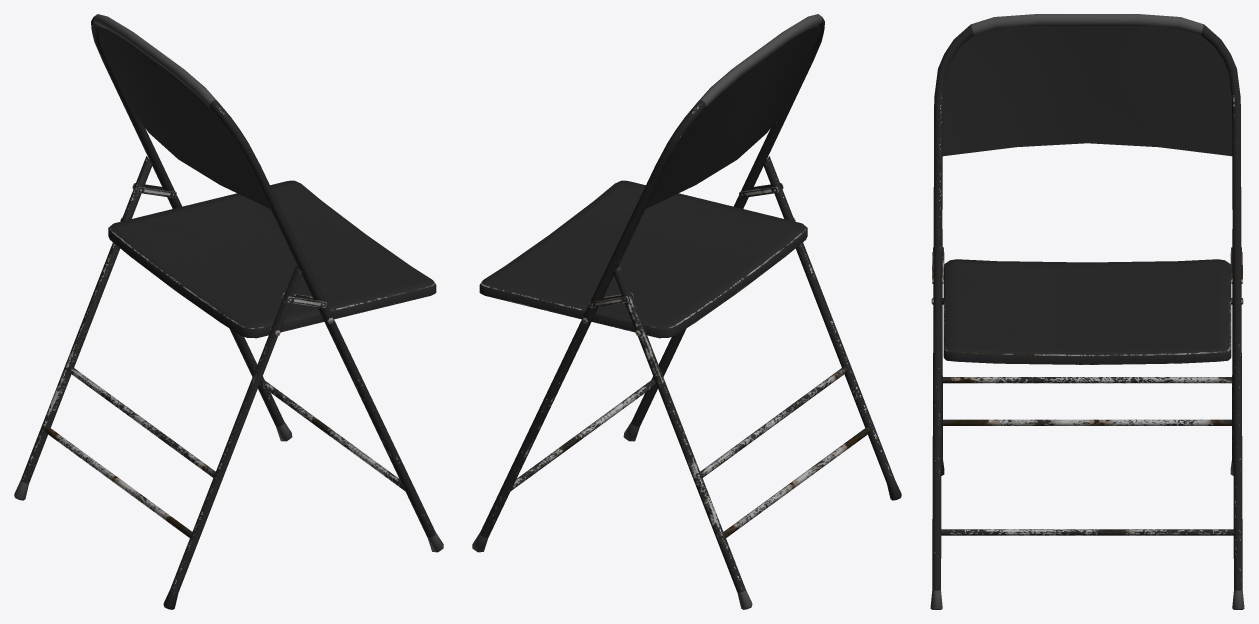
File: obj_simple_metal_foldable_chair_c5bc47.glb
3 renders of one model, left to right at view 1: azimuth 30°, elevation 25°; view 2: azimuth 150°, elevation 25°; view 3: azimuth 270°, elevation 25°, orthographic.
Visible parts, largest first — view 1: obj_simple_metal_foldable_chair_c5bc47; view 2: obj_simple_metal_foldable_chair_c5bc47; view 3: obj_simple_metal_foldable_chair_c5bc47.
Boxes of the visible parts, x1,y1,x2,y2 form: obj_simple_metal_foldable_chair_c5bc47: (14,14,443,609); obj_simple_metal_foldable_chair_c5bc47: (472,14,901,609); obj_simple_metal_foldable_chair_c5bc47: (930,14,1244,609).
Bounding box in the file's own units: 0.48 × 0.82 × 0.4701.
1 material, 1 textured.
